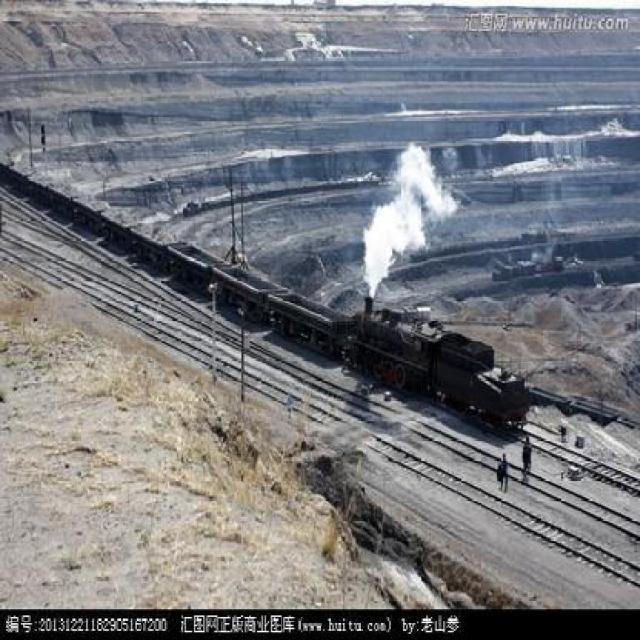Fire: (351, 134, 464, 312)
